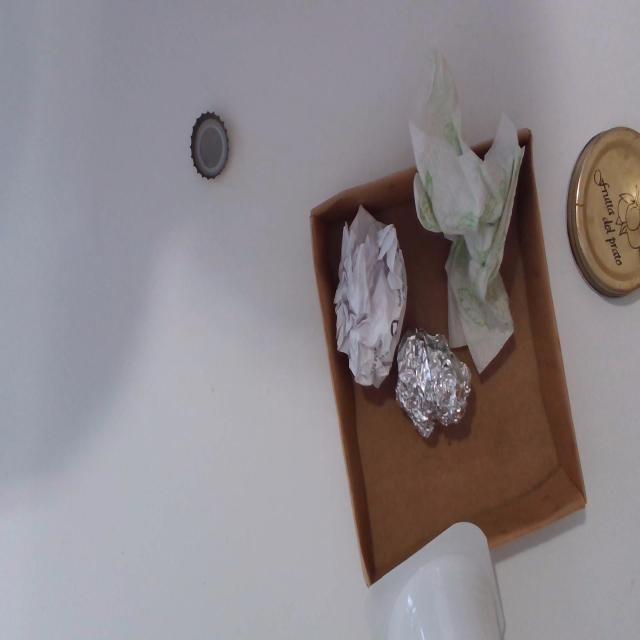Paper: (411, 55, 524, 371), (339, 207, 409, 395)
